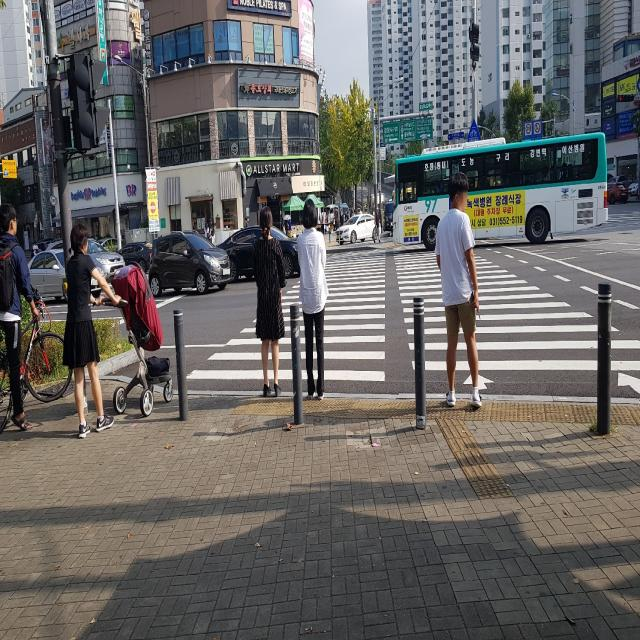횡단보도: (185, 244, 640, 397)
